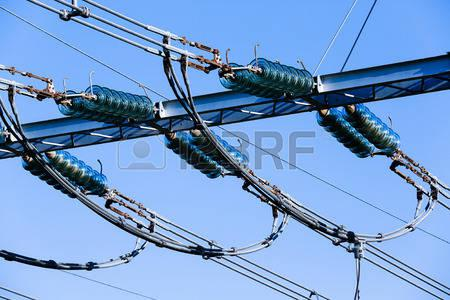isolator: (316, 103, 400, 158), (21, 149, 109, 199), (164, 129, 249, 179), (218, 57, 315, 100), (58, 84, 154, 125)
